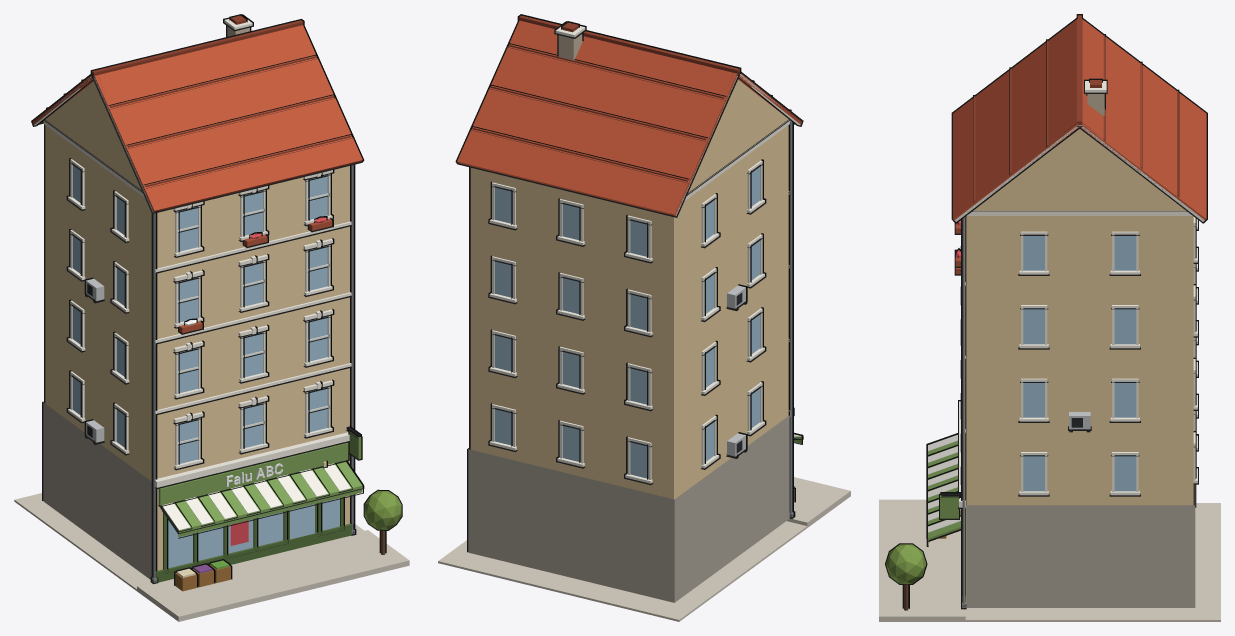
Rendered from Dukkan_falu_abc.fbx.
The picture shows the model from 3 angles, left to right: view 1: azimuth 30°, elevation 25°; view 2: azimuth 150°, elevation 25°; view 3: azimuth 270°, elevation 25°; orthographic projection. The views are drawn at different scales.
Visible parts, largest first — view 1: Dukkan_falu_abc; view 2: Dukkan_falu_abc; view 3: Dukkan_falu_abc.
Part boxes in pixels (x1,y1,x2,y2): Dukkan_falu_abc: (14, 14, 409, 621); Dukkan_falu_abc: (438, 14, 850, 621); Dukkan_falu_abc: (879, 14, 1220, 621).
Bounding box in the file's own units: 10.43 × 20.67 × 12.64.
